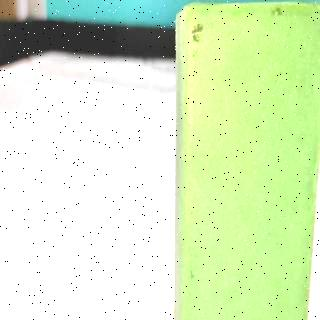greenbox: (176, 2, 320, 320)
